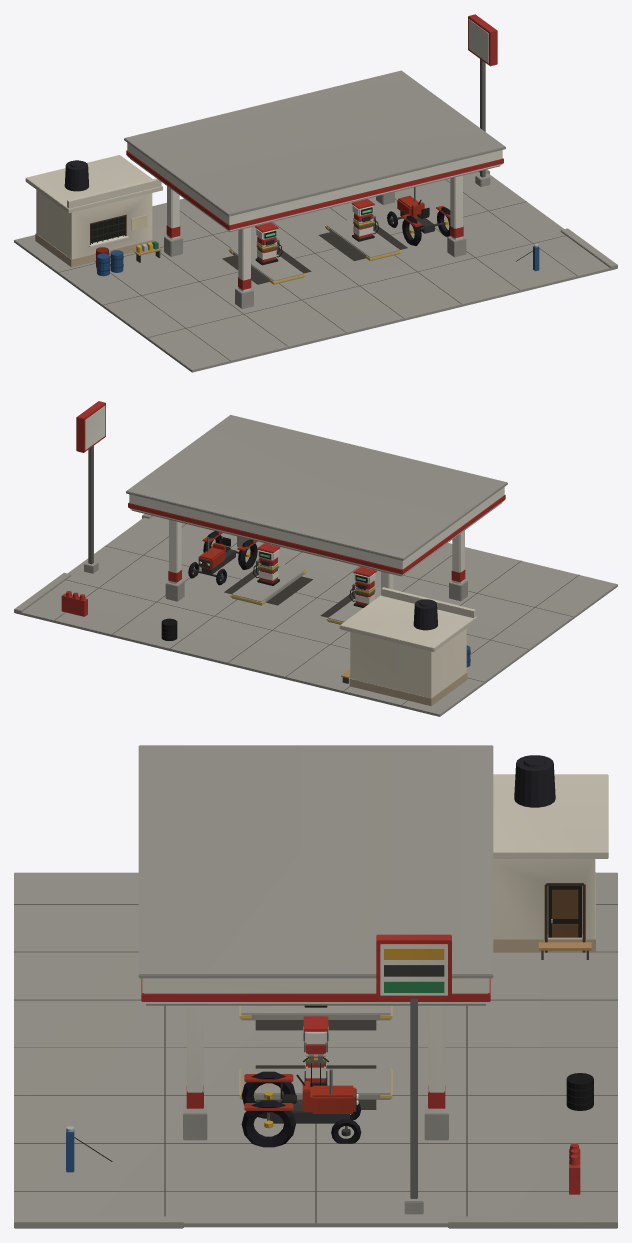
File: petrol_pump.glb
3 renders of one model, top to bottom at view 1: azimuth 30°, elevation 25°; view 2: azimuth 150°, elevation 25°; view 3: azimuth 270°, elevation 25°, orthographic. The views are drawn at different scales.
Parts seen in each view (by area): view 1: hb_main, hb_props; view 2: hb_main, hb_props; view 3: hb_main, hb_props.
Boxes of the visible parts, x1,y1,x2,y2 form: hb_main: [14, 70, 617, 372]; hb_props: [58, 14, 577, 360]; hb_main: [14, 415, 617, 716]; hb_props: [54, 401, 579, 705]; hb_main: [14, 745, 617, 1228]; hb_props: [14, 755, 617, 1223].
Bounding box in the file's own units: 22.1 × 8.1 × 16.
